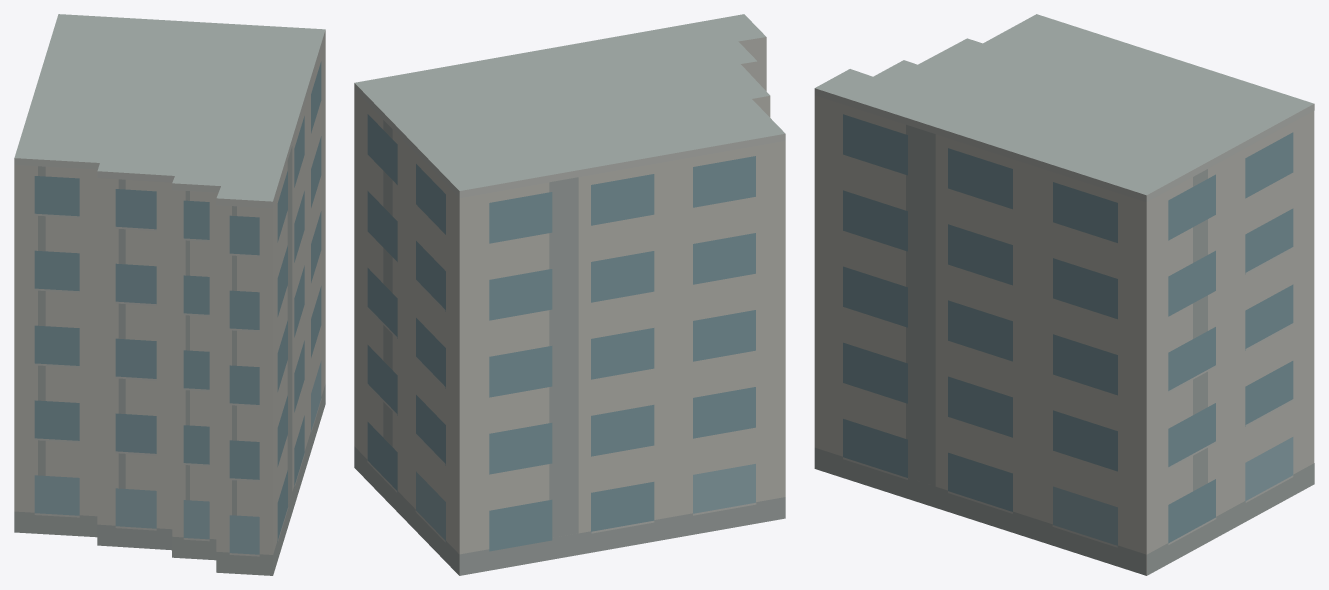
The model's file is survey-upis-32635995.glb.
The picture shows the model from 3 angles, left to right: view 1: azimuth 30°, elevation 25°; view 2: azimuth 150°, elevation 25°; view 3: azimuth 270°, elevation 25°; orthographic projection. The views are drawn at different scales.
Visible parts, largest first — view 1: survey-upis-32635995.tmp; view 2: survey-upis-32635995.tmp; view 3: survey-upis-32635995.tmp.
Boxes of the visible parts, <box> form: survey-upis-32635995.tmp: <box>14,14,325,575</box>; survey-upis-32635995.tmp: <box>354,14,785,575</box>; survey-upis-32635995.tmp: <box>814,14,1314,575</box>.
Size of the model in its own units: 13.67 by 13.38 by 15.93.
